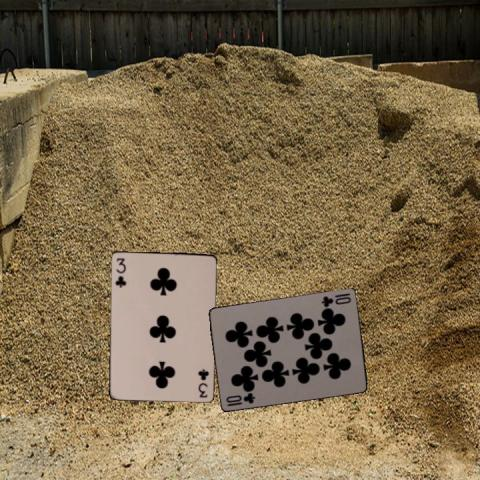10c: (318, 290, 352, 308), (223, 390, 257, 407)
3c: (112, 255, 127, 288), (196, 366, 210, 399)
